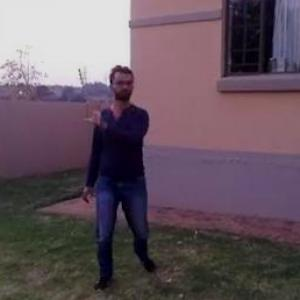follow_hand: (83, 93, 107, 127)
